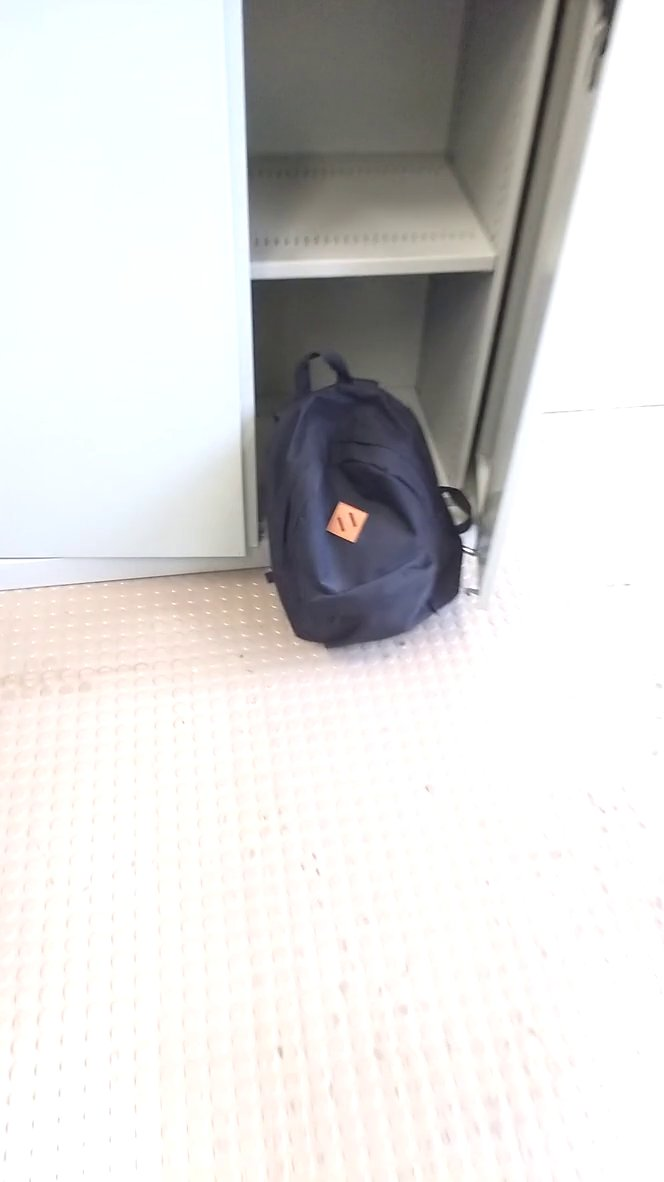bag: (259, 339, 472, 653)
